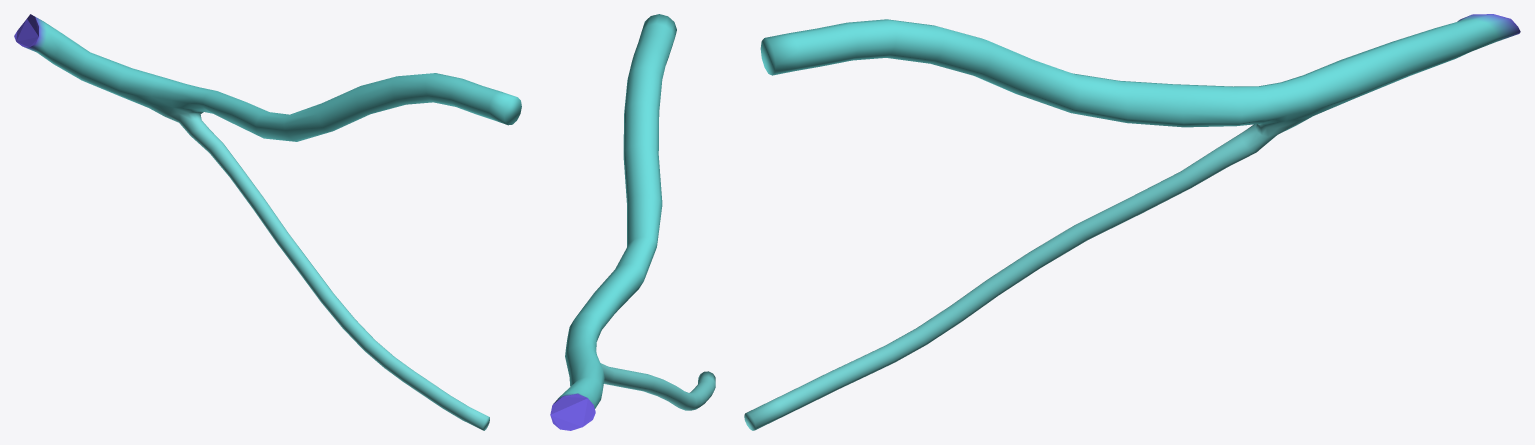
The model's file is Iliac_Left.FBX.
The picture shows the model from 3 angles, left to right: view 1: azimuth 30°, elevation 25°; view 2: azimuth 150°, elevation 25°; view 3: azimuth 270°, elevation 25°; orthographic projection. The views are drawn at different scales.
Parts seen in each view (by area): view 1: Iliac_Left; view 2: Iliac_Left; view 3: Iliac_Left.
Boxes of the visible parts, box(x1,y1,x2,y2) form: Iliac_Left: box(14, 14, 521, 430); Iliac_Left: box(550, 14, 715, 430); Iliac_Left: box(744, 14, 1520, 430).
Size of the model in its own units: 77.75 by 104 by 177.
